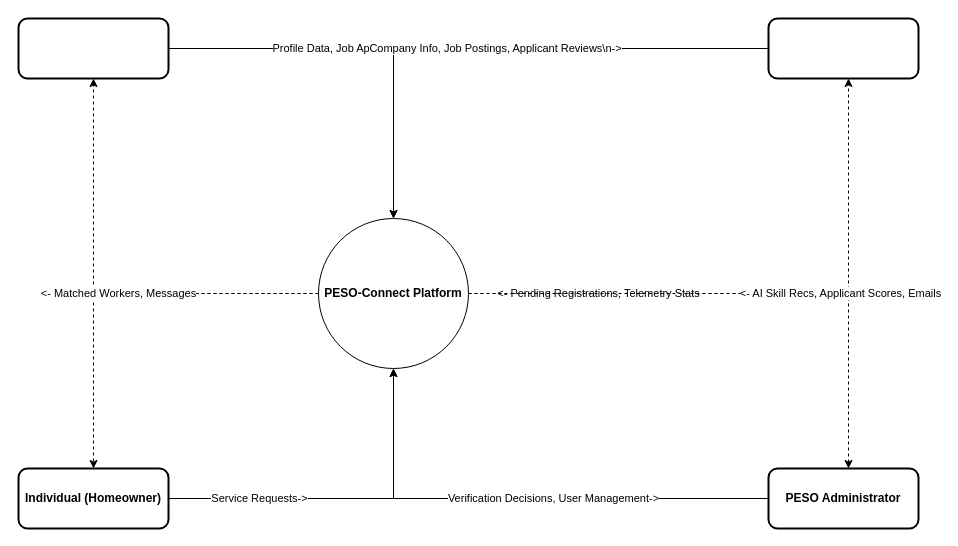
Some shapes in this 958 by 546 pixel diagram are drawn without their labels. Here are the shapes that lost their labels. From the top down, the centre of each, then its label:
point 93,48: Jobseeker
point 843,48: Employer
